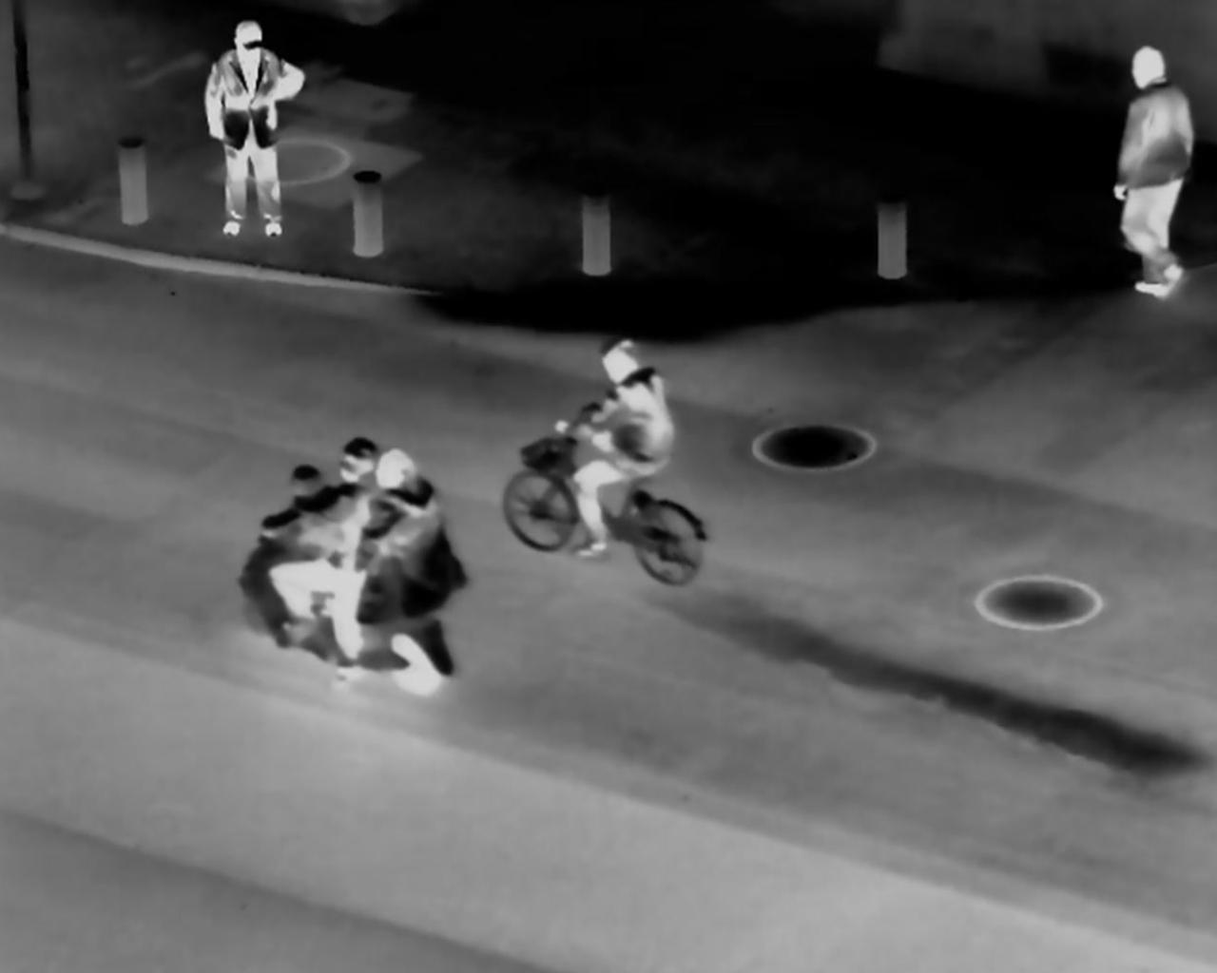person: (559, 323, 681, 568), (357, 443, 469, 669), (1109, 34, 1193, 298), (281, 425, 375, 658), (205, 21, 303, 237)
